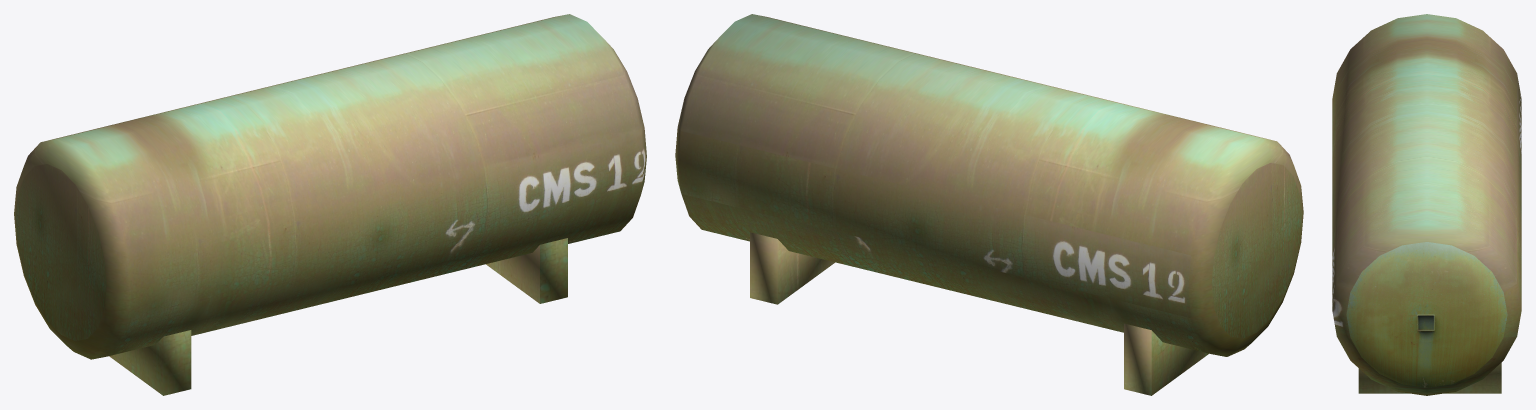
The model's file is industrial26.obj.
3 views of the same model, side by side, from view 1: azimuth 30°, elevation 25°; view 2: azimuth 150°, elevation 25°; view 3: azimuth 270°, elevation 25° (orthographic). The views are drawn at different scales.
Visible parts, largest first — view 1: industrial18; view 2: industrial18; view 3: industrial18.
Boxes of the visible parts, <box> form: industrial18: <box>14,14,646,395</box>; industrial18: <box>675,14,1303,395</box>; industrial18: <box>1332,14,1521,395</box>.
Bounding box in the file's own units: 316 × 128 × 113.
Materials: 1 (1 with a texture image).
